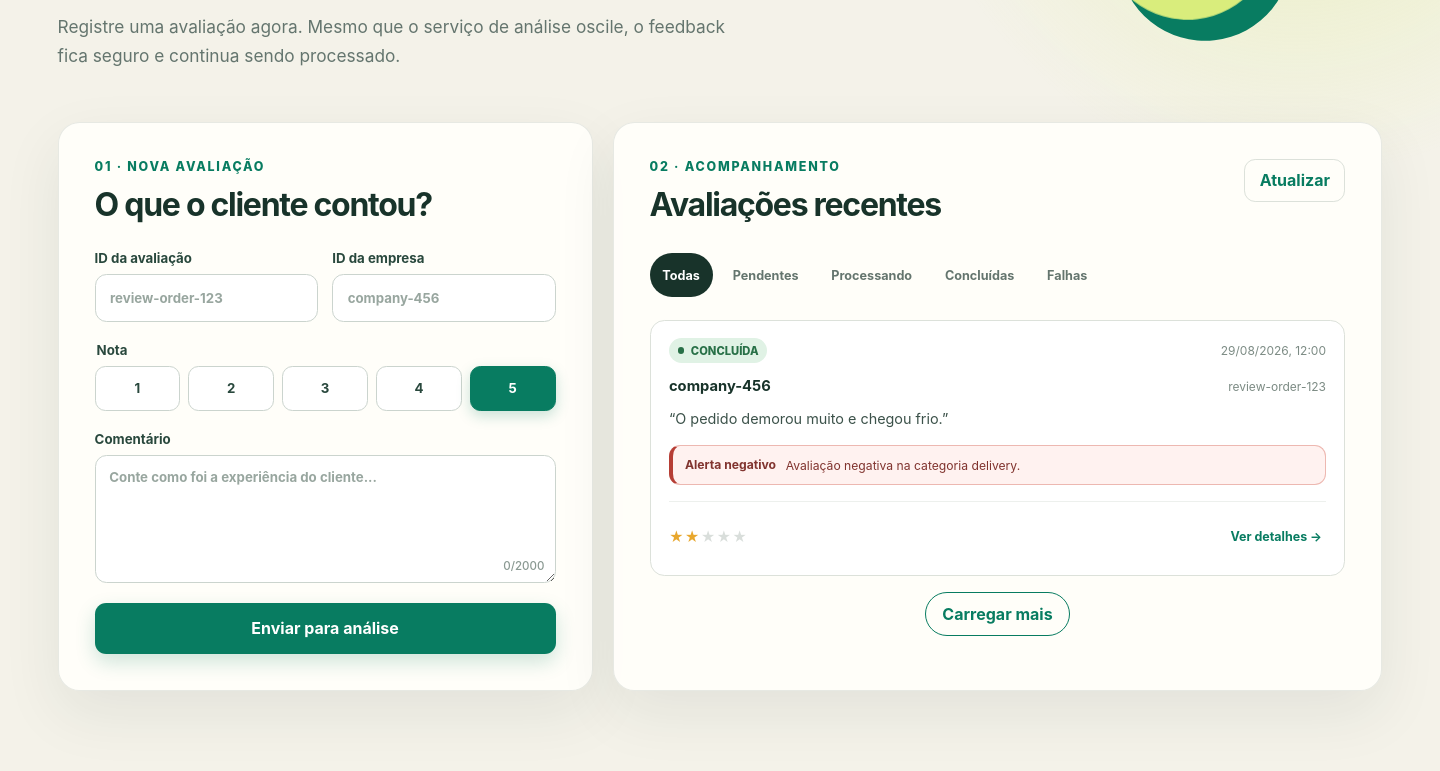
App › carrega páginas adicionais sem remover as avaliações anteriores
(page scrolled)
Expected: the text "company-456" is shown, x1=669 y1=377 x2=771 y2=395
Click the button "Carregar mais" at (997, 614), box x1=925 y1=592 x2=1070 y2=636
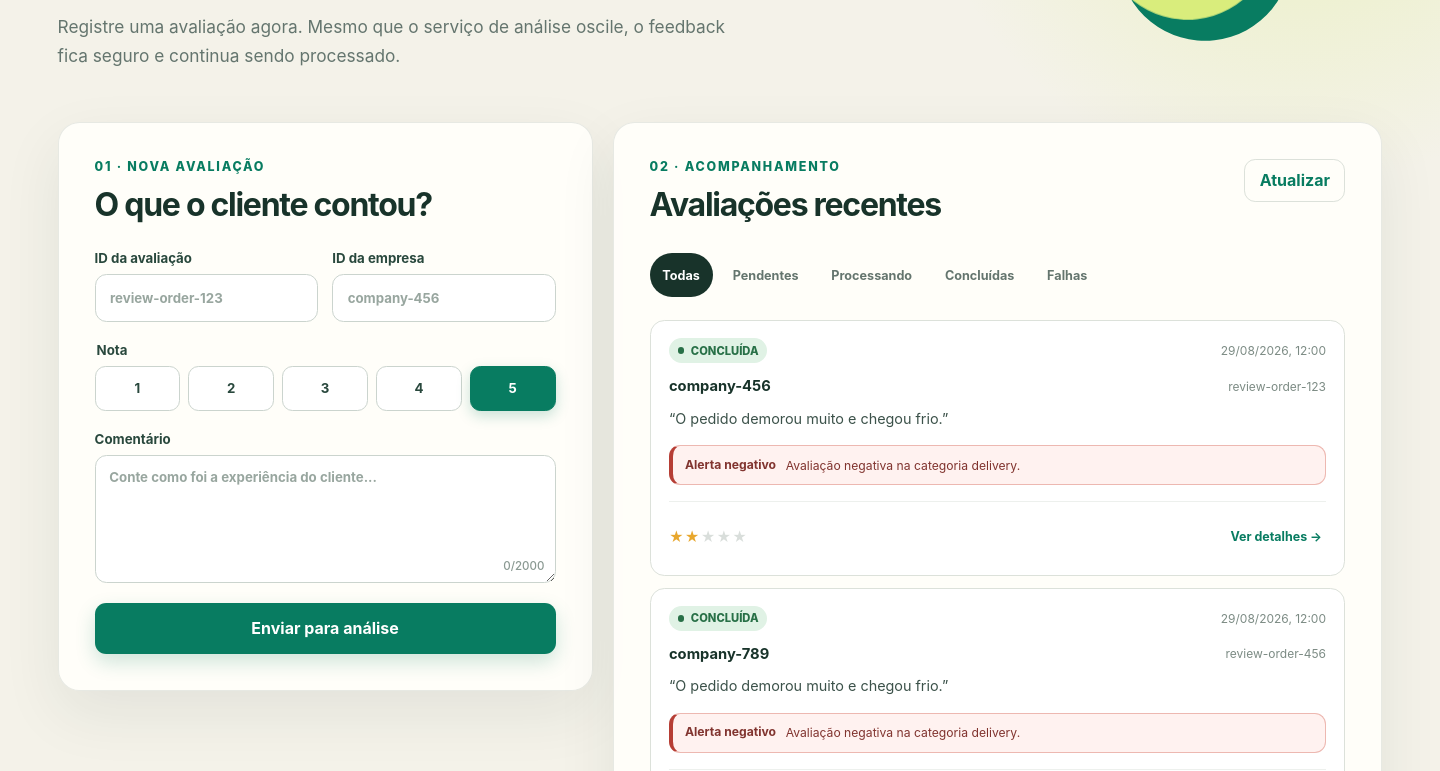
Expected: the text "company-456" is shown, x1=669 y1=377 x2=771 y2=395
Expected: the text "company-789" is shown, x1=669 y1=645 x2=769 y2=663
Expected: the button "Carregar mais" is gone
